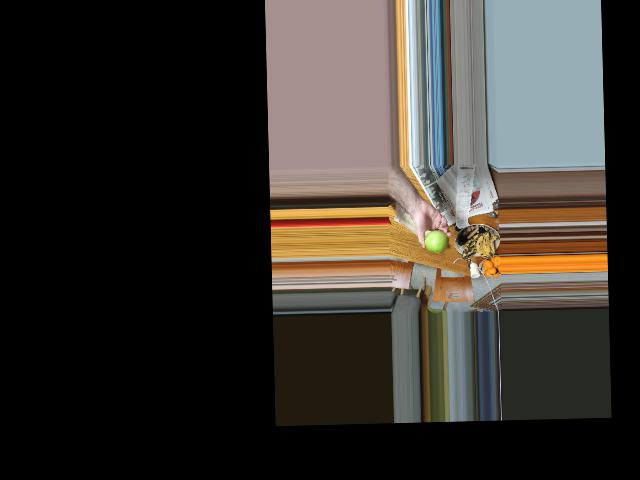apple: (424, 229, 448, 254)
